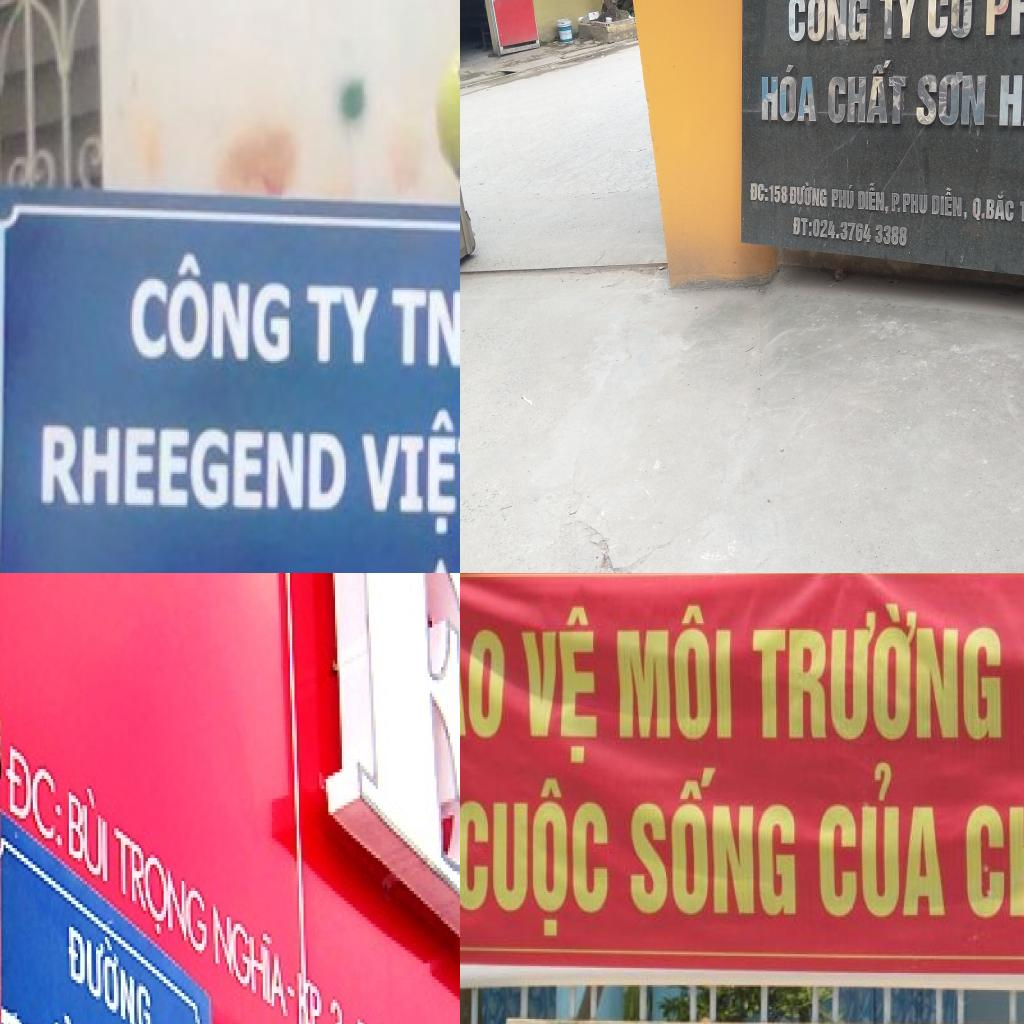text: (337, 573, 460, 966), (750, 603, 1004, 741), (38, 419, 354, 518), (629, 766, 799, 918), (460, 776, 609, 940), (127, 241, 296, 370), (816, 761, 946, 920), (618, 604, 732, 741), (114, 818, 211, 976), (354, 405, 460, 540), (518, 604, 600, 765), (211, 891, 292, 1024), (66, 904, 154, 1024), (965, 778, 1024, 920), (303, 279, 385, 370), (460, 585, 506, 740), (6, 743, 66, 861), (387, 285, 460, 376), (66, 769, 112, 891), (827, 59, 909, 127), (1, 973, 100, 1024), (915, 70, 987, 129), (760, 64, 820, 124), (787, 0, 871, 42), (297, 966, 351, 1024), (812, 218, 908, 247), (925, 0, 981, 39), (998, 62, 1024, 128), (878, 0, 919, 41), (972, 189, 1015, 224), (930, 186, 968, 220), (788, 182, 828, 208), (858, 182, 888, 215), (892, 192, 928, 214), (830, 184, 854, 210), (792, 217, 812, 237), (769, 184, 788, 204), (750, 182, 768, 202), (1019, 193, 1024, 224)
